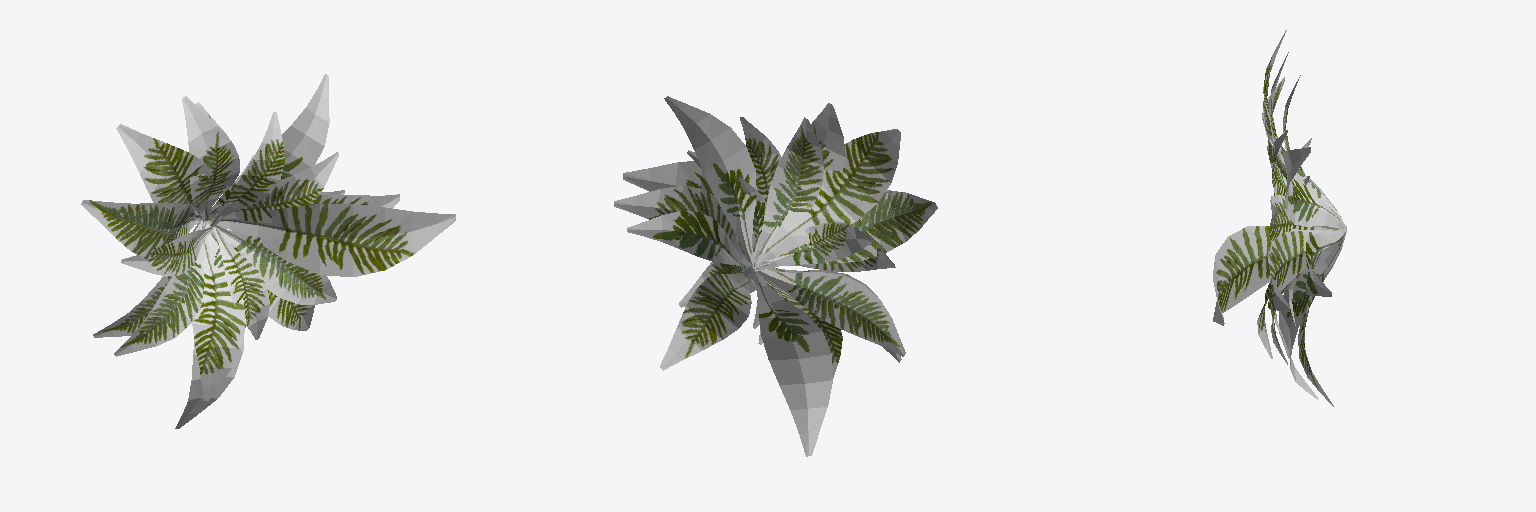
3 renders of one model, left to right at view 1: azimuth 30°, elevation 25°; view 2: azimuth 150°, elevation 25°; view 3: azimuth 270°, elevation 25°, orthographic.
Visible parts, largest first — view 1: Plane; view 2: Plane; view 3: Plane.
Part boxes in pixels (left/top/right/bottom): Plane: left=81, top=74, right=455, bottom=428; Plane: left=614, top=96, right=937, bottom=456; Plane: left=1213, top=30, right=1346, bottom=406.
Size of the model in its own units: 465 by 444 by 157.
Materials: 1 (1 with a texture image).